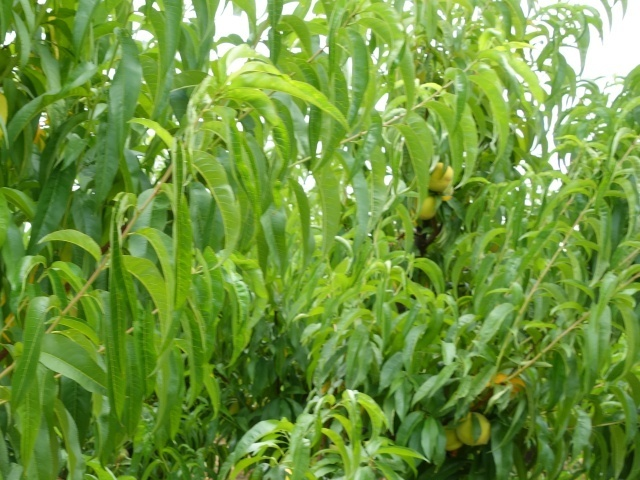peach: (453, 405, 492, 449), (413, 187, 443, 227), (425, 158, 459, 193), (436, 419, 469, 451)
